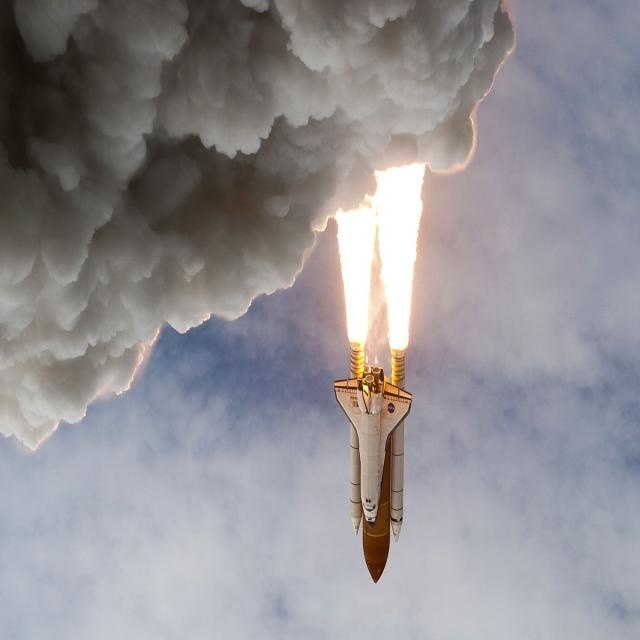large_debris: (434, 363, 635, 585)
medium_debris: (320, 150, 433, 367)
